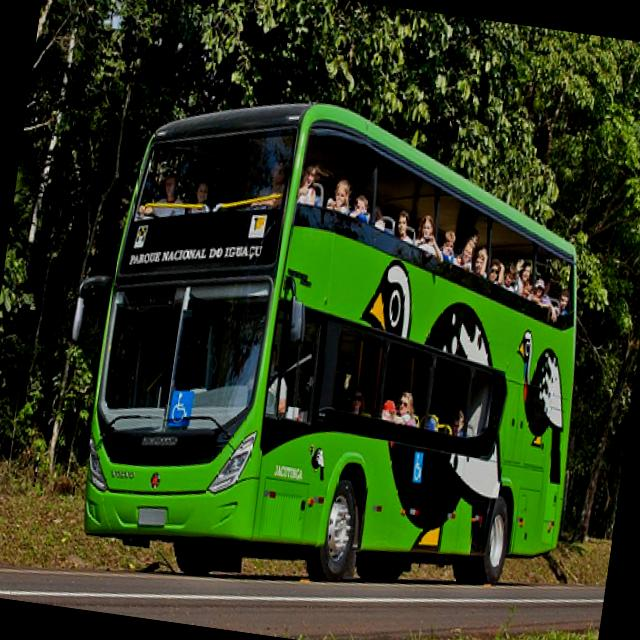Vehicle: (78, 75, 616, 632)
